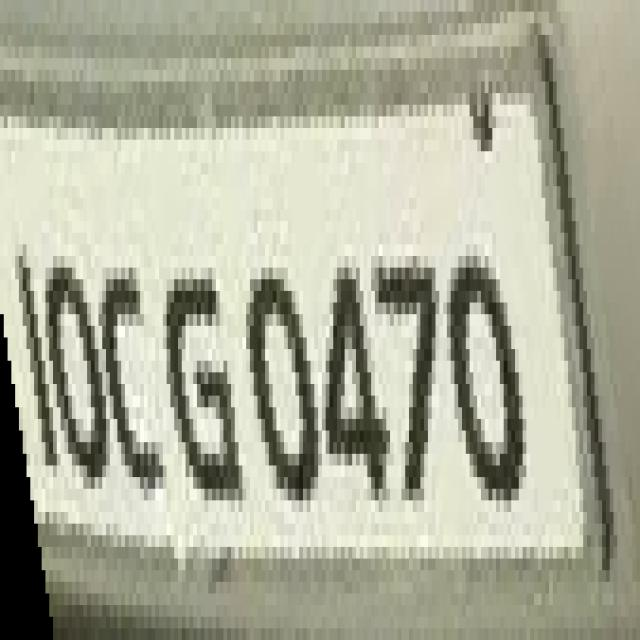license_plate: (0, 58, 625, 582)
